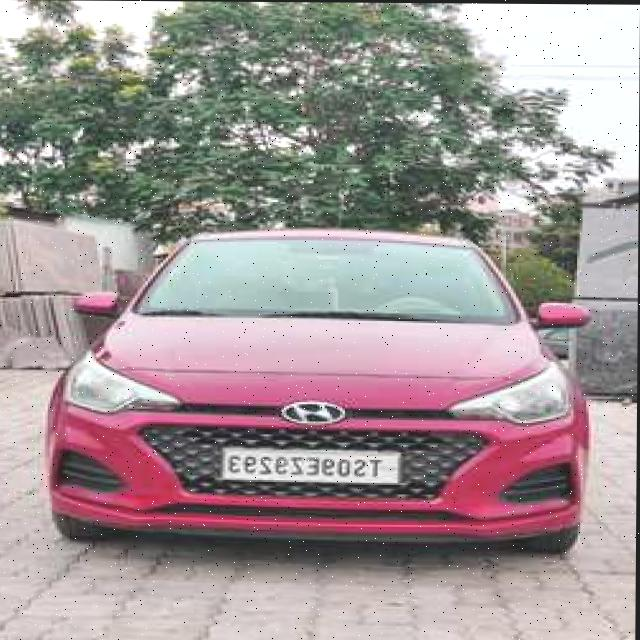plate: (221, 443, 409, 484)
